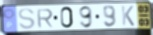0: (59, 6, 75, 30)
9: (102, 4, 118, 29), (78, 5, 94, 29)
K: (121, 5, 136, 27)
R: (36, 8, 55, 29)
S: (17, 7, 37, 31)
